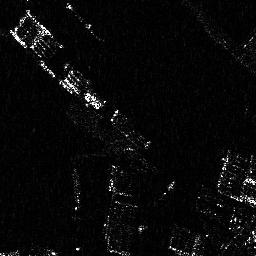ship: (66, 2, 105, 42), (69, 167, 82, 211)
